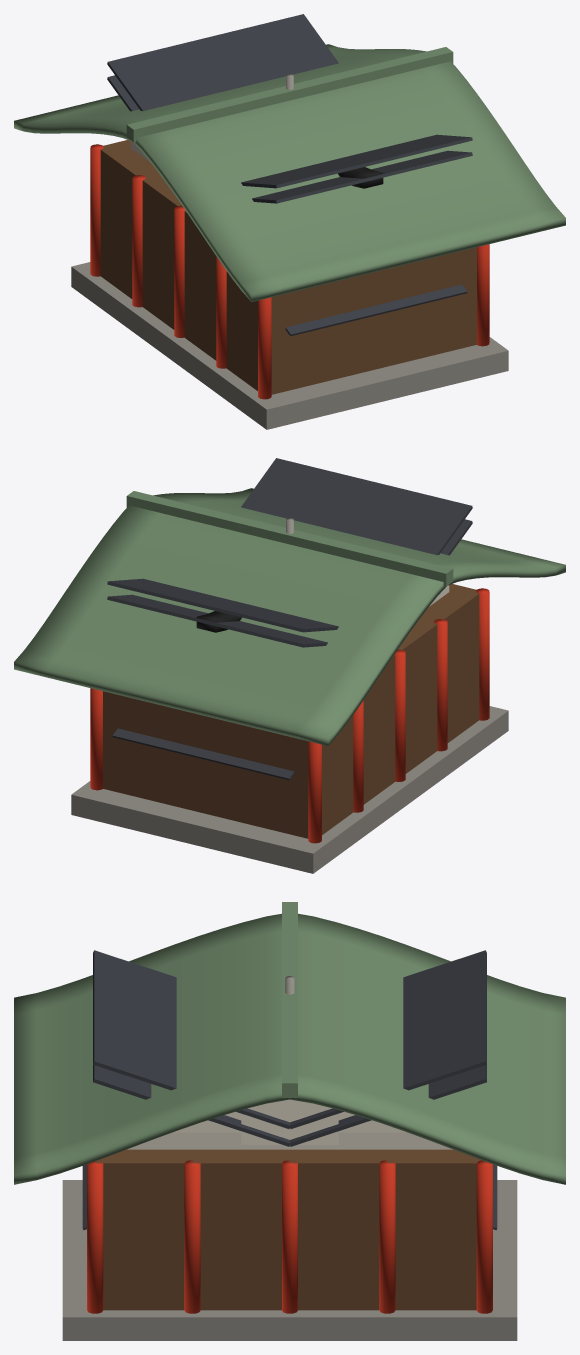
File: town.glb
The picture shows the model from 3 angles, top to bottom: view 1: azimuth 30°, elevation 25°; view 2: azimuth 150°, elevation 25°; view 3: azimuth 270°, elevation 25°; orthographic projection. The views are drawn at different scales.
Visible parts, largest first — view 1: shrine, machiya_a, machiya_b, torii; view 2: shrine, machiya_a, machiya_b, torii; view 3: shrine, machiya_a, machiya_b.
Boxes of the visible parts, x1=… form: shrine: x1=14, y1=44, x2=565, y2=429; machiya_a: x1=107, y1=14, x2=472, y2=336; machiya_b: x1=107, y1=75, x2=472, y2=203; torii: x1=338, y1=167, x2=383, y2=188; shrine: x1=14, y1=488, x2=565, y2=873; machiya_a: x1=107, y1=458, x2=472, y2=780; machiya_b: x1=107, y1=519, x2=472, y2=647; torii: x1=196, y1=611, x2=241, y2=632; shrine: x1=14, y1=902, x2=565, y2=1340; machiya_a: x1=82, y1=950, x2=497, y2=1230; machiya_b: x1=93, y1=1065, x2=486, y2=1149.
Size of the model in its own units: 13.2 by 10.35 by 17.
